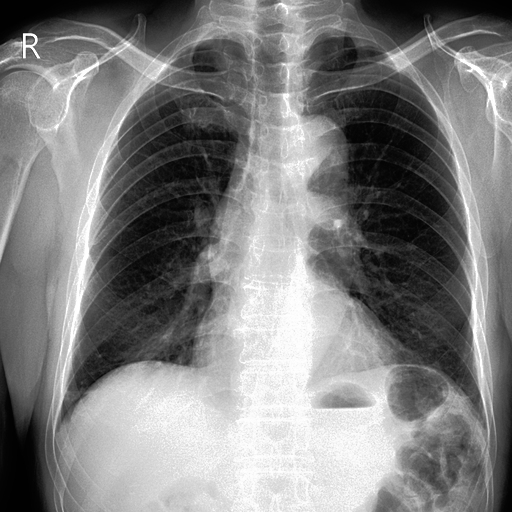Calcification: (152, 36, 214, 76)
Consolidation: (283, 114, 347, 175)
Pleural thickening: (456, 392, 478, 403), (63, 391, 83, 401)
